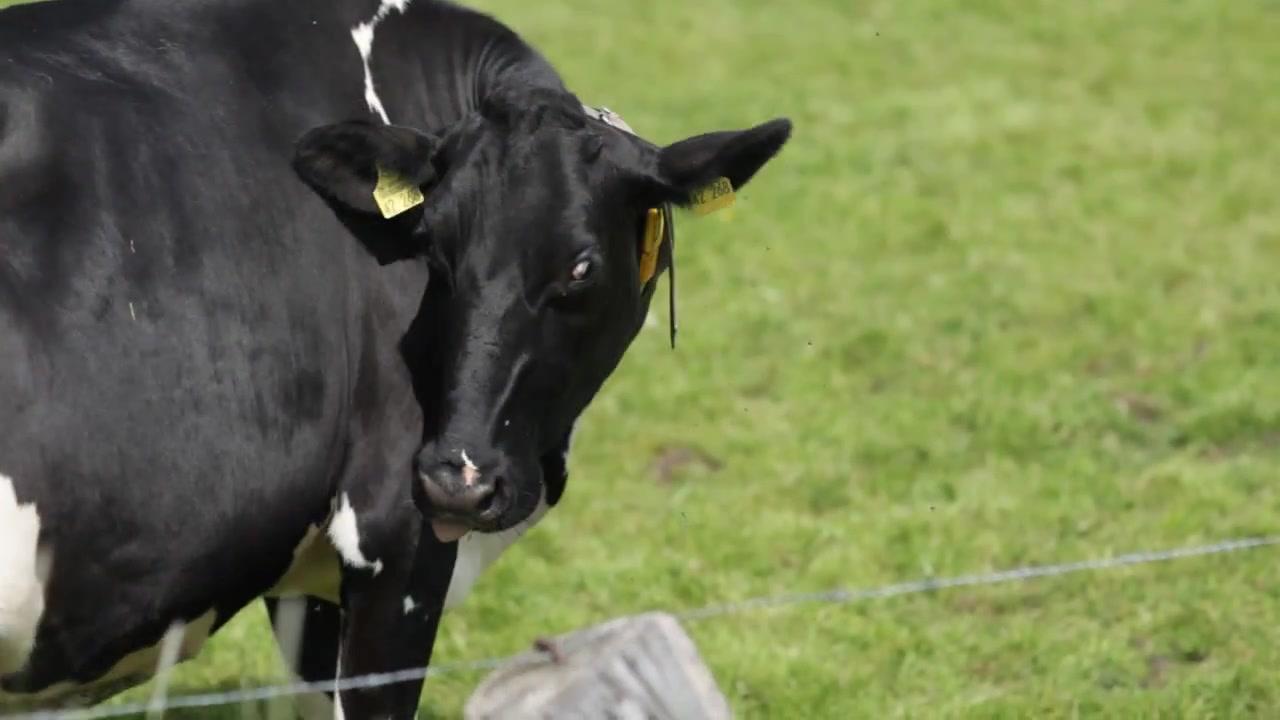cow: (1, 1, 794, 720)
